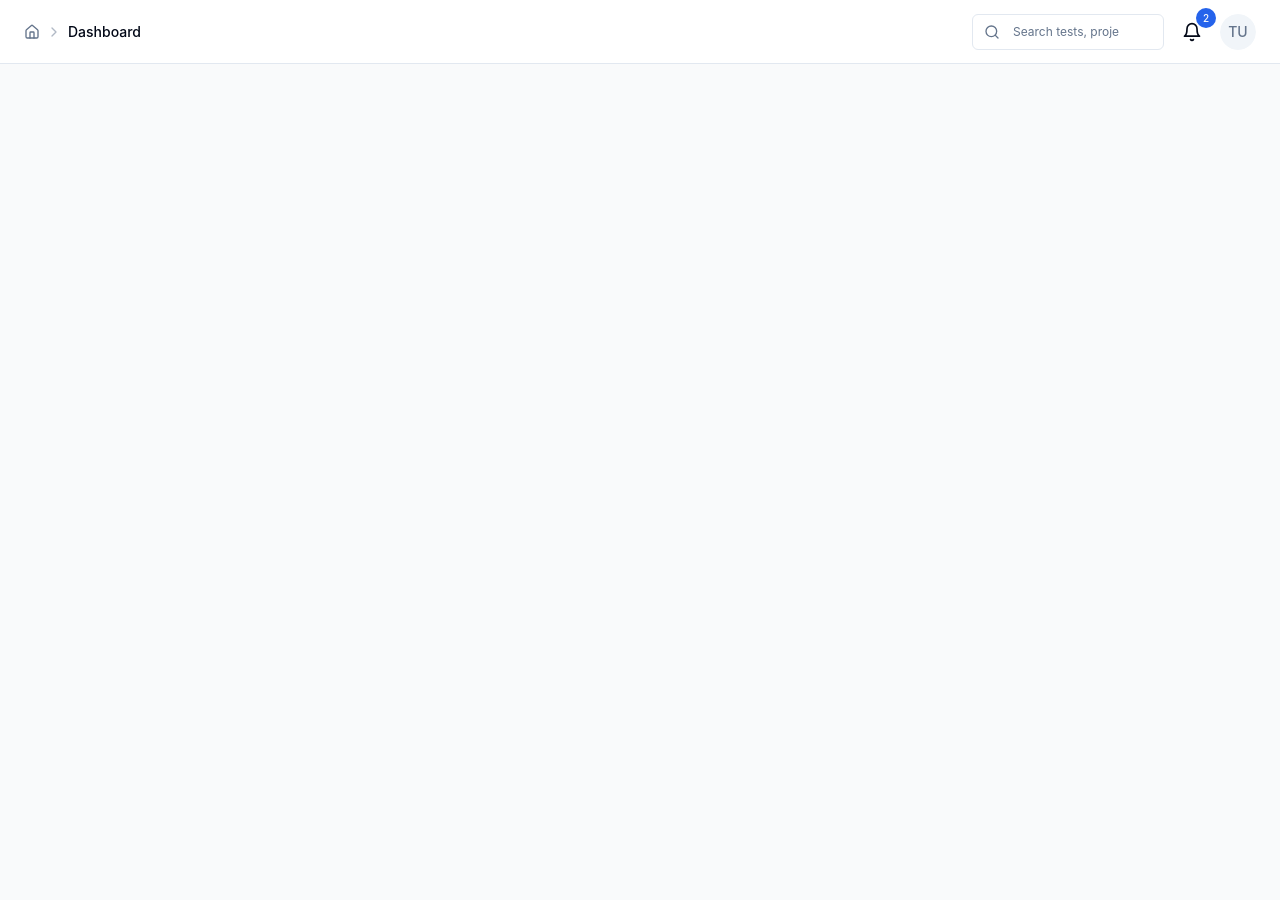
Test: Header › should open notifications popover when clicking notifications button
Click the button named "notifications": (1192, 32) [1172,12,1212,52]
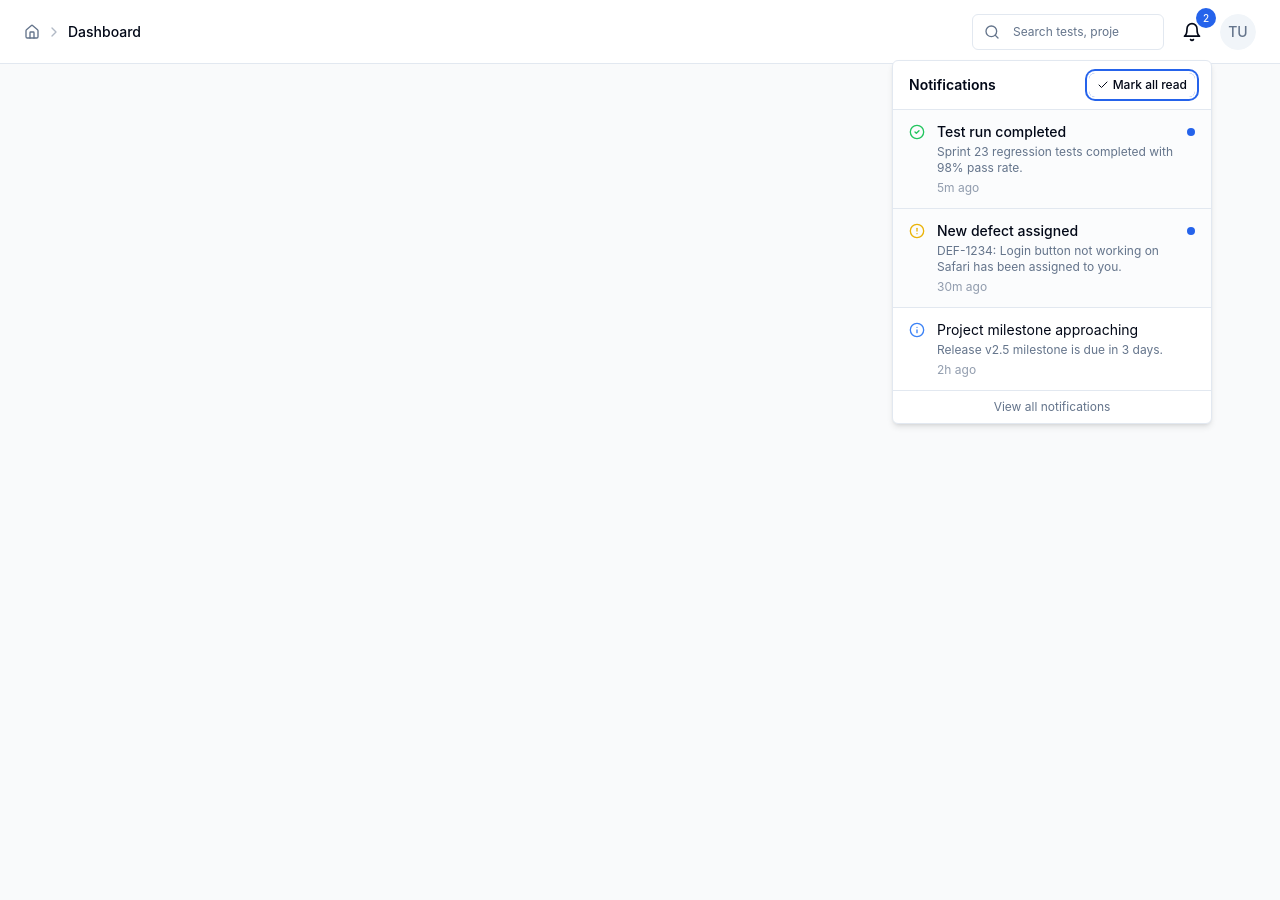
Expected: the heading "Notifications" is shown, [909,75,996,95]
